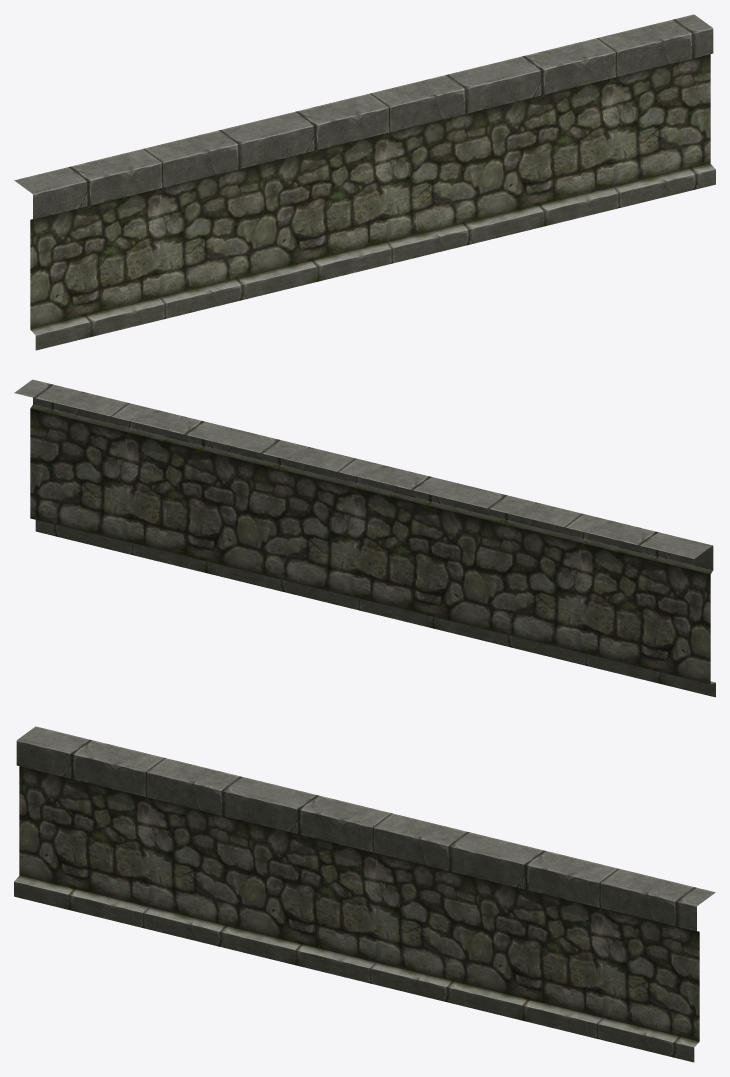
Rendered from JiaYeSi_ShanMen_2.FBX.
The picture shows the model from 3 angles, top to bottom: view 1: azimuth 30°, elevation 25°; view 2: azimuth 150°, elevation 25°; view 3: azimuth 330°, elevation 25°; orthographic projection.
Parts seen in each view (by area): view 1: JiaYeSi_ShanMen_2; view 2: JiaYeSi_ShanMen_2; view 3: JiaYeSi_ShanMen_2.
Part boxes in pixels (left/top/right/bottom): JiaYeSi_ShanMen_2: left=14, top=14, right=715, bottom=350; JiaYeSi_ShanMen_2: left=14, top=379, right=715, bottom=697; JiaYeSi_ShanMen_2: left=14, top=726, right=715, bottom=1062.
Bounding box in the file's own units: 3212 × 696 × 177.
